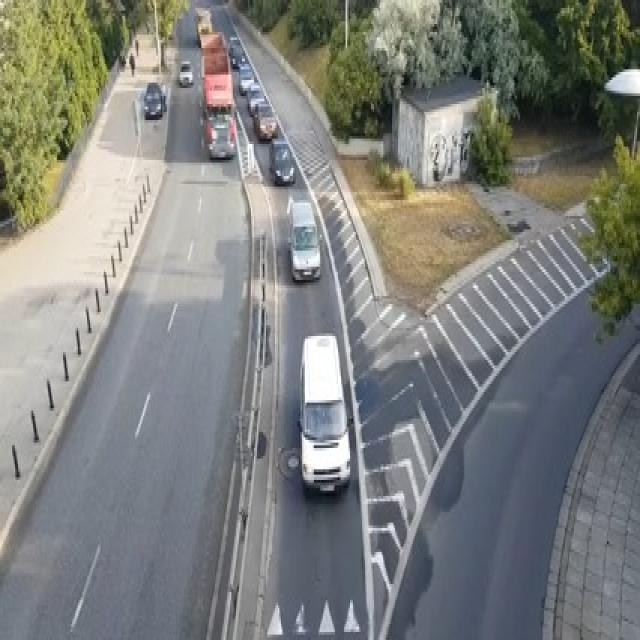bus: (296, 331, 350, 493)
car: (287, 197, 320, 280), (204, 110, 236, 158), (268, 139, 294, 184), (252, 101, 276, 139), (143, 80, 165, 117), (194, 5, 212, 46), (245, 82, 264, 114), (227, 34, 245, 66), (239, 64, 254, 93), (178, 59, 192, 85)
